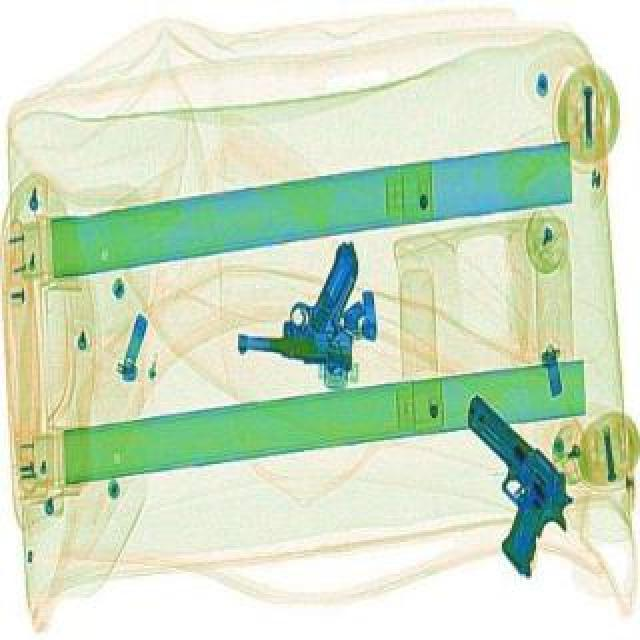gun: (398, 388, 608, 576), (236, 230, 370, 368)
